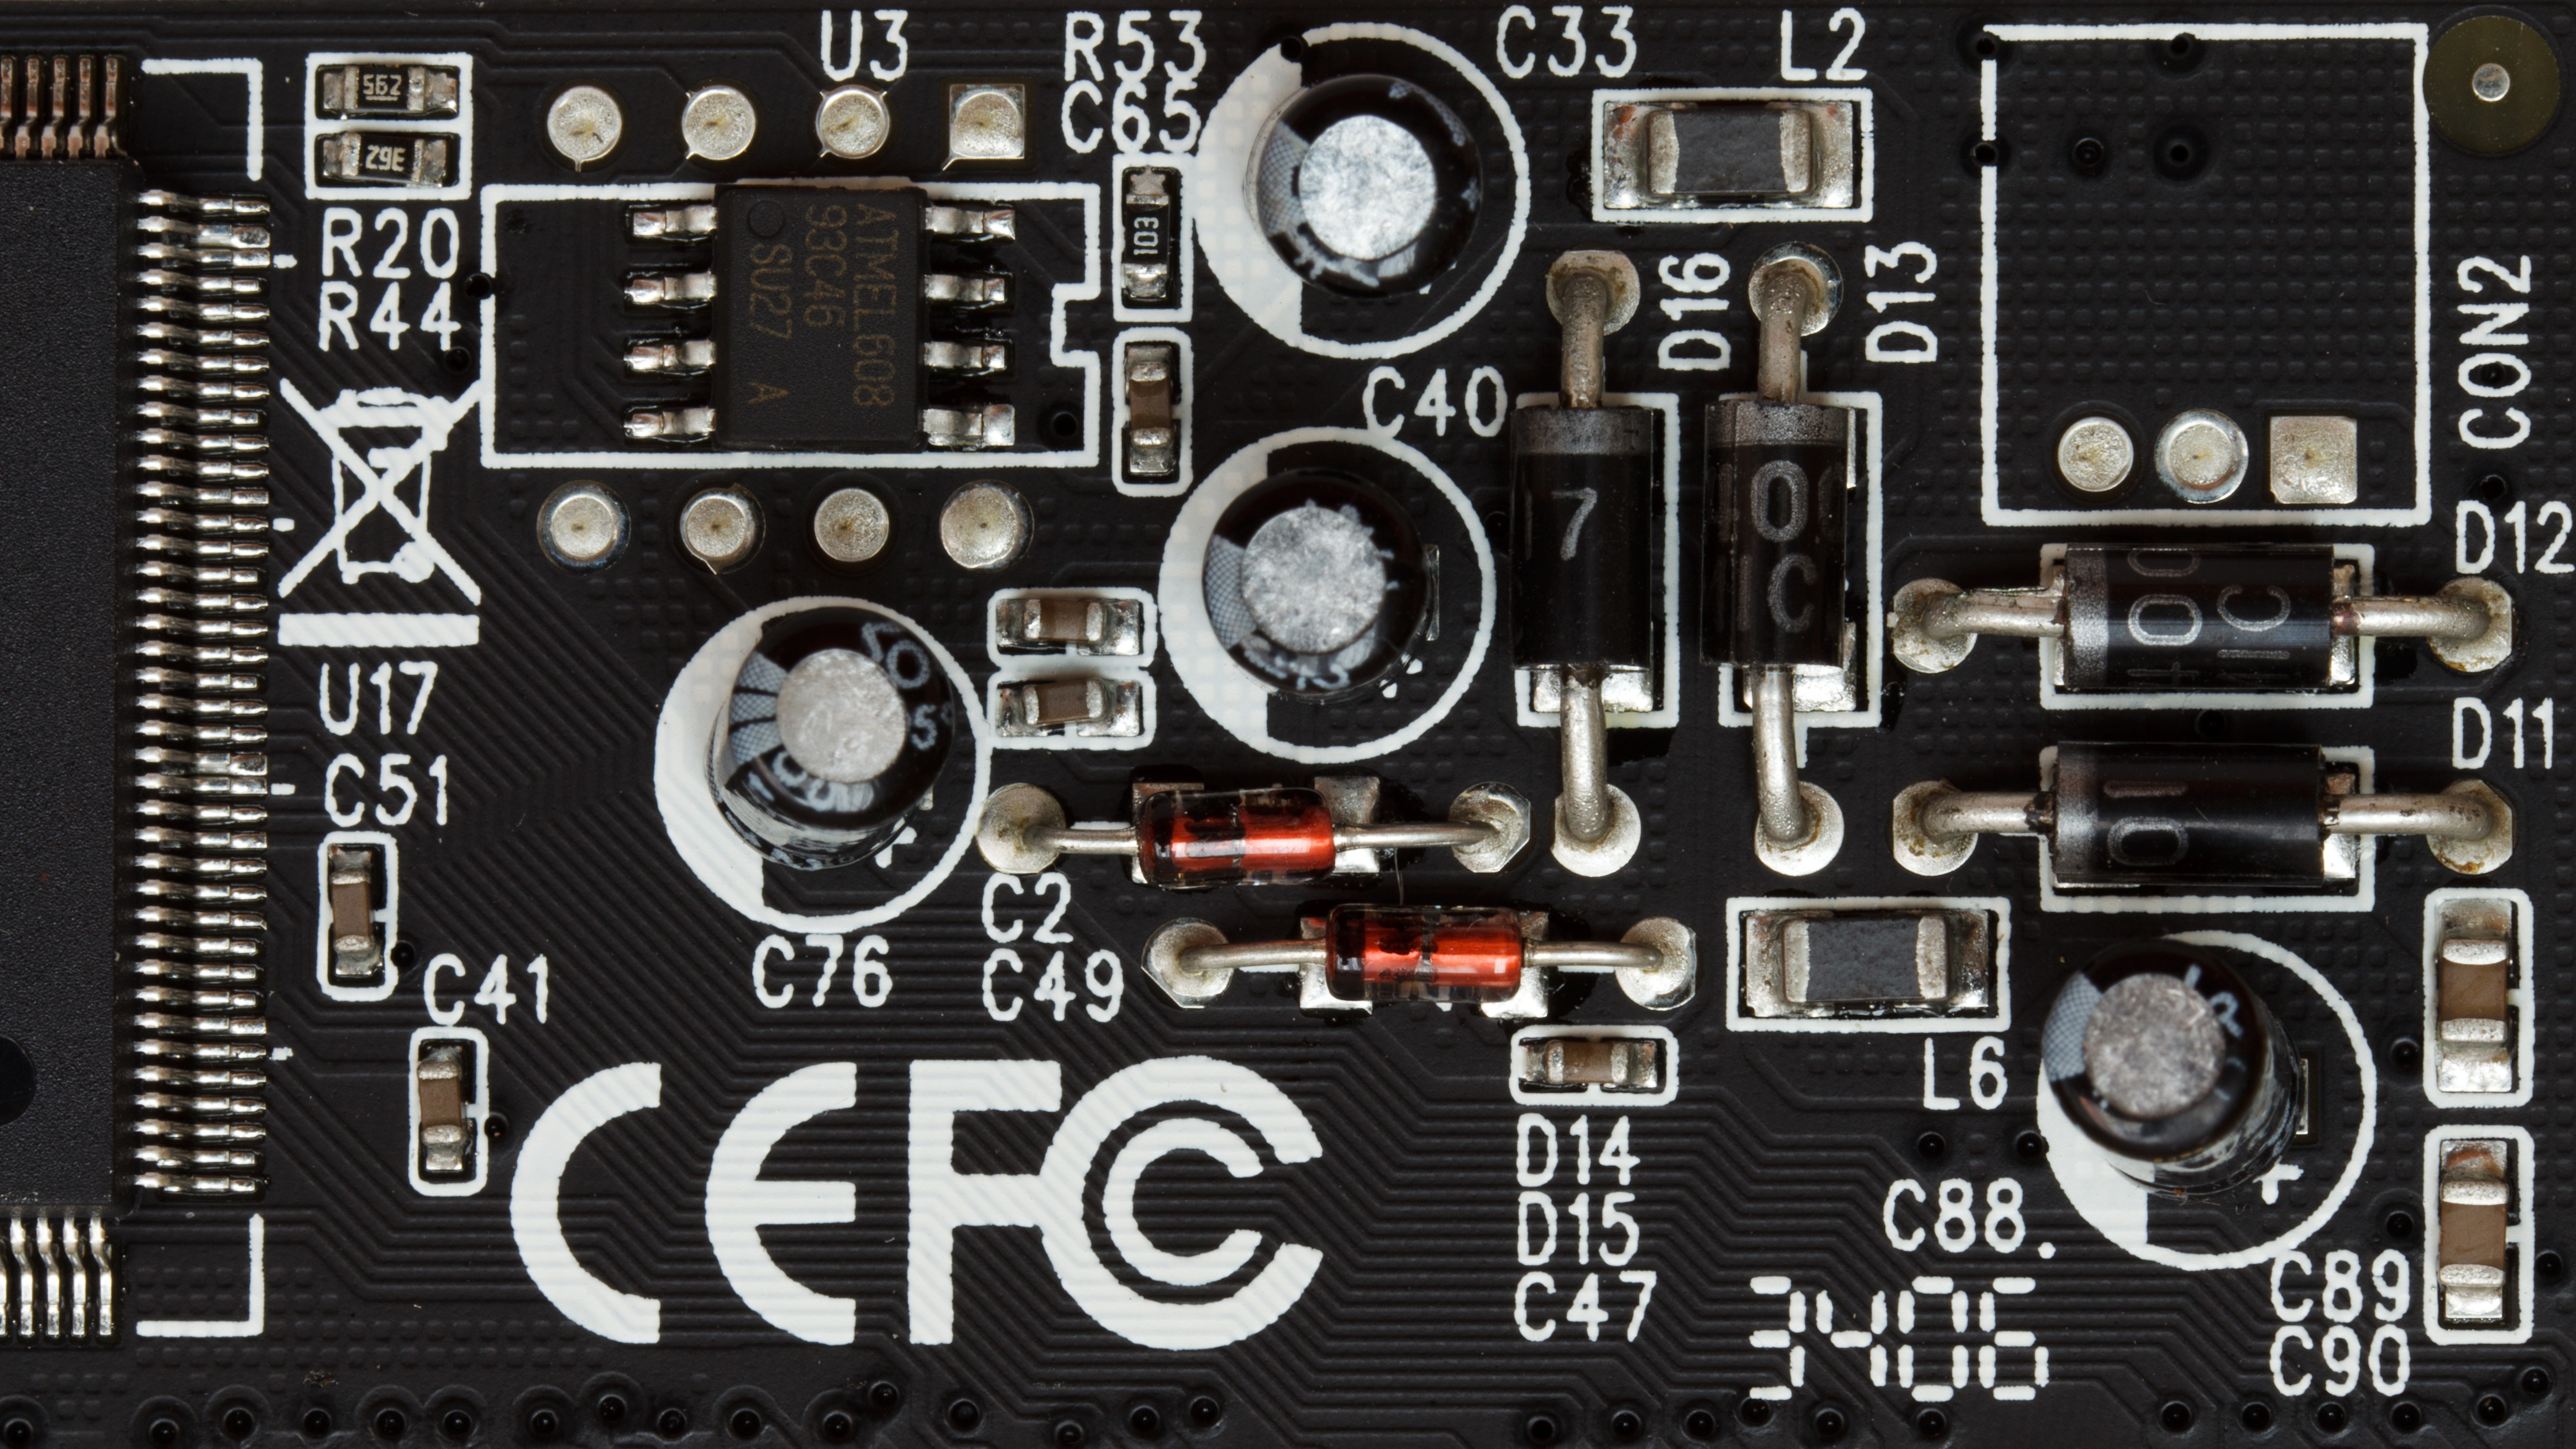Capacitor: (2031, 938, 2316, 1207), (701, 609, 959, 876), (1194, 462, 1438, 702), (1244, 71, 1484, 306)
Diode: (1690, 359, 1882, 729), (2003, 729, 2390, 904), (2012, 533, 2394, 697), (1502, 396, 1679, 715), (1106, 766, 1376, 897), (1300, 895, 1552, 1021)
